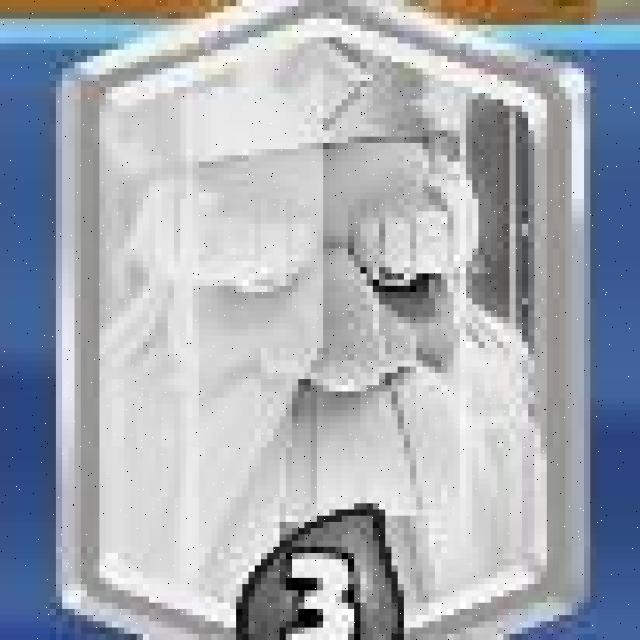Royal_Ghost: (62, 0, 579, 640)
